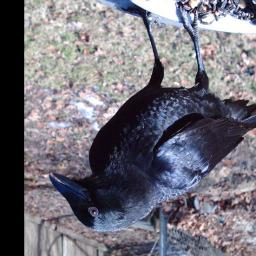Crow: (48, 2, 256, 232)
